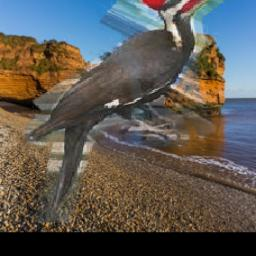Woodpecker: (26, 0, 240, 223)
